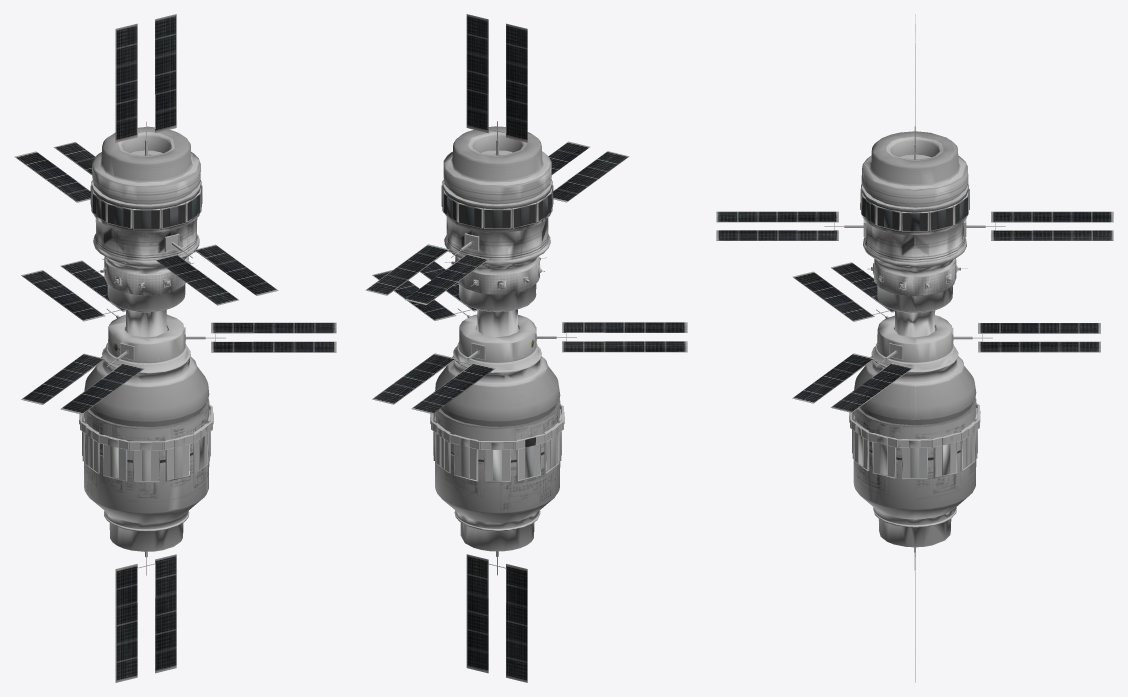
Rendered from station-transformed.glb.
3 renders of one model, left to right at view 1: azimuth 30°, elevation 25°; view 2: azimuth 150°, elevation 25°; view 3: azimuth 270°, elevation 25°, orthographic. The views are drawn at different scales.
Visible parts, largest first — view 1: Cloner_6__0; view 2: Cloner_6__0; view 3: Cloner_6__0.
Part boxes in pixels (x1,y1,x2,y2): Cloner_6__0: (14, 14, 336, 682); Cloner_6__0: (365, 14, 687, 682); Cloner_6__0: (716, 14, 1113, 682).
Size of the model in its own units: 2.9 by 5.74 by 3.23.
Materials: 1 (1 with a texture image).
